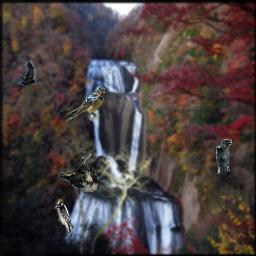Crow: (58, 153, 98, 192), (216, 138, 232, 177), (17, 61, 37, 85)
Swallow: (66, 86, 106, 122)
Woodpecker: (54, 199, 73, 239)
